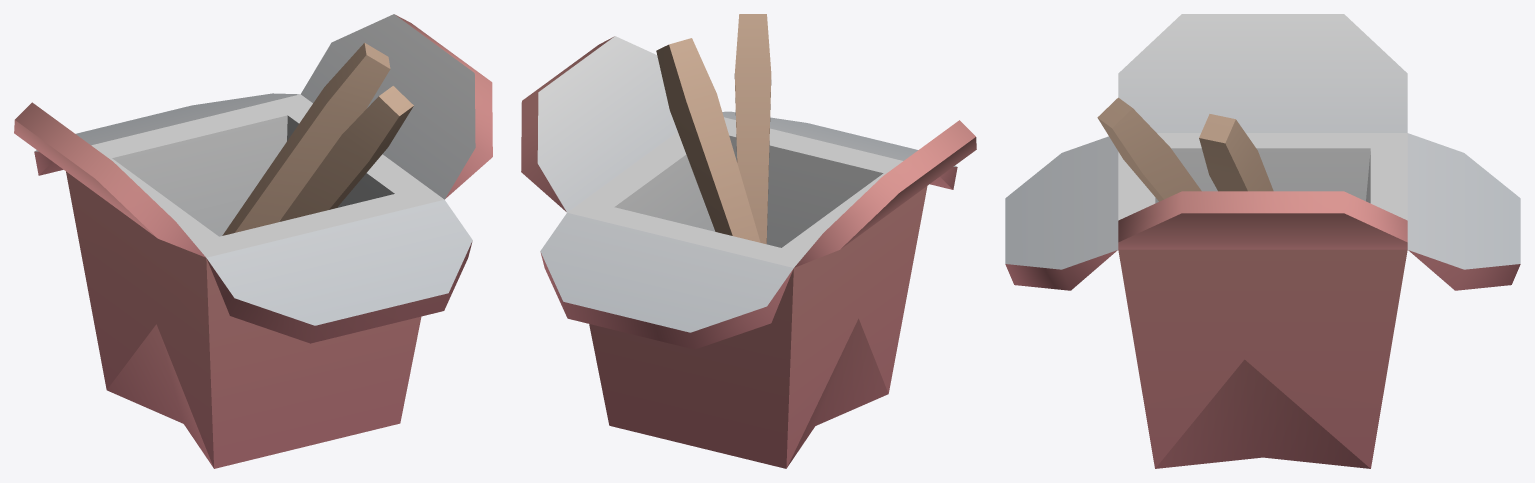
Rendered from chinese-empty.glb.
3 renders of one model, left to right at view 1: azimuth 30°, elevation 25°; view 2: azimuth 150°, elevation 25°; view 3: azimuth 270°, elevation 25°, orthographic. The views are drawn at different scales.
Parts seen in each view (by area): view 1: chinese-empty; view 2: chinese-empty; view 3: chinese-empty.
Boxes of the visible parts, box(x1,y1,x2,y2) form: chinese-empty: box(14, 14, 492, 468); chinese-empty: box(521, 14, 976, 468); chinese-empty: box(1005, 14, 1520, 468).
Bounding box in the file's own units: 0.3681 × 0.3108 × 0.4126.
